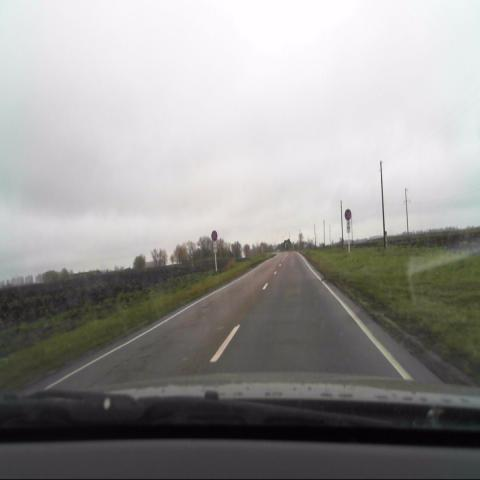3_27: (344, 208, 352, 220), (211, 229, 218, 242)
